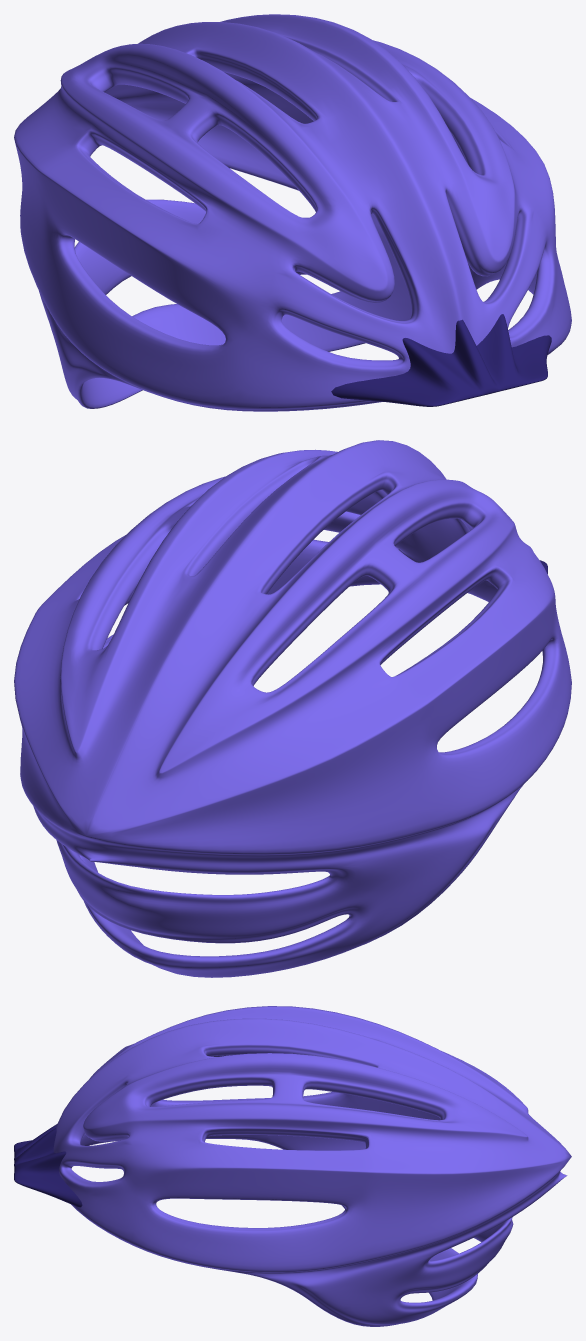
File: helmet2.2.glb
3 views of the same model, one above another, from view 1: azimuth 30°, elevation 25°; view 2: azimuth 150°, elevation 25°; view 3: azimuth 270°, elevation 25° (orthographic). The views are drawn at different scales.
Parts seen in each view (by area): view 1: 11723_helmet_sg; view 2: 11723_helmet_sg; view 3: 11723_helmet_sg.
Part boxes in pixels (<box>): 11723_helmet_sg: <box>14,14,571,411</box>; 11723_helmet_sg: <box>14,440,571,977</box>; 11723_helmet_sg: <box>14,1006,571,1326</box>.
Bounding box in the file's own units: 0.1521 × 0.1423 × 0.2539.
